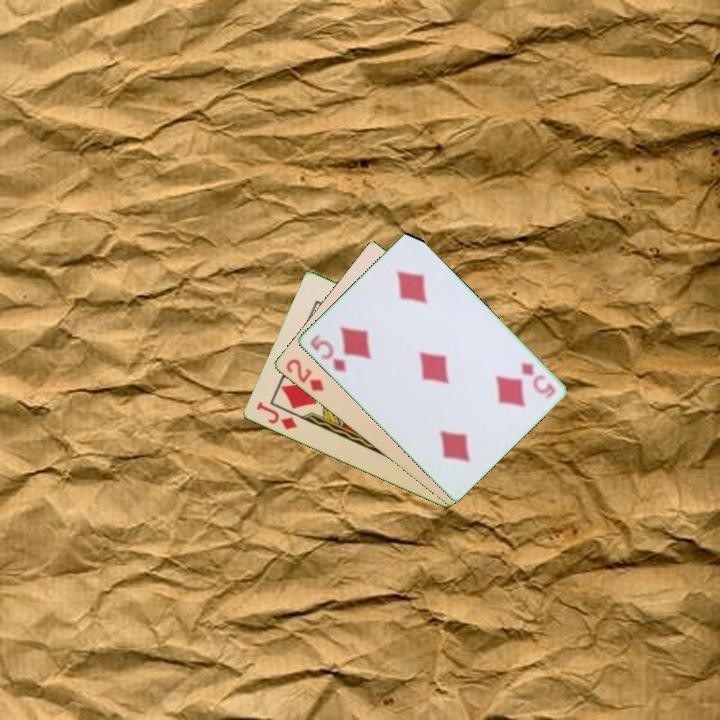2d: (282, 355, 326, 394)
5d: (306, 330, 349, 375), (516, 359, 558, 402)
Jd: (253, 398, 300, 433)
